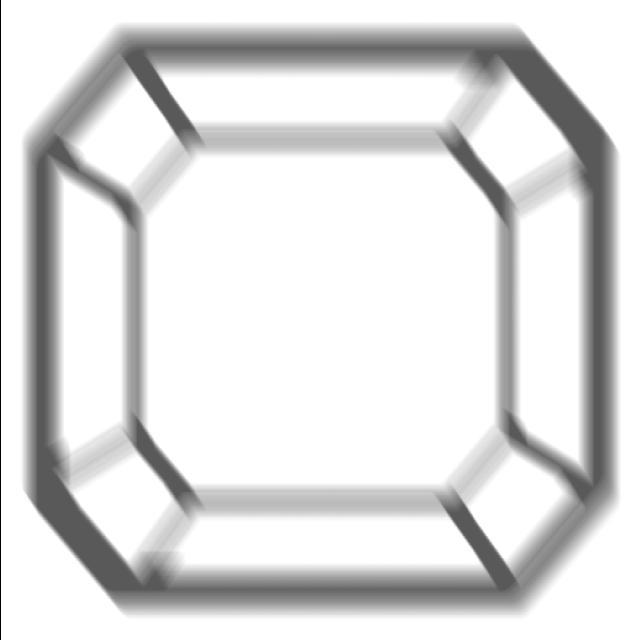emerald: (18, 16, 624, 622)
